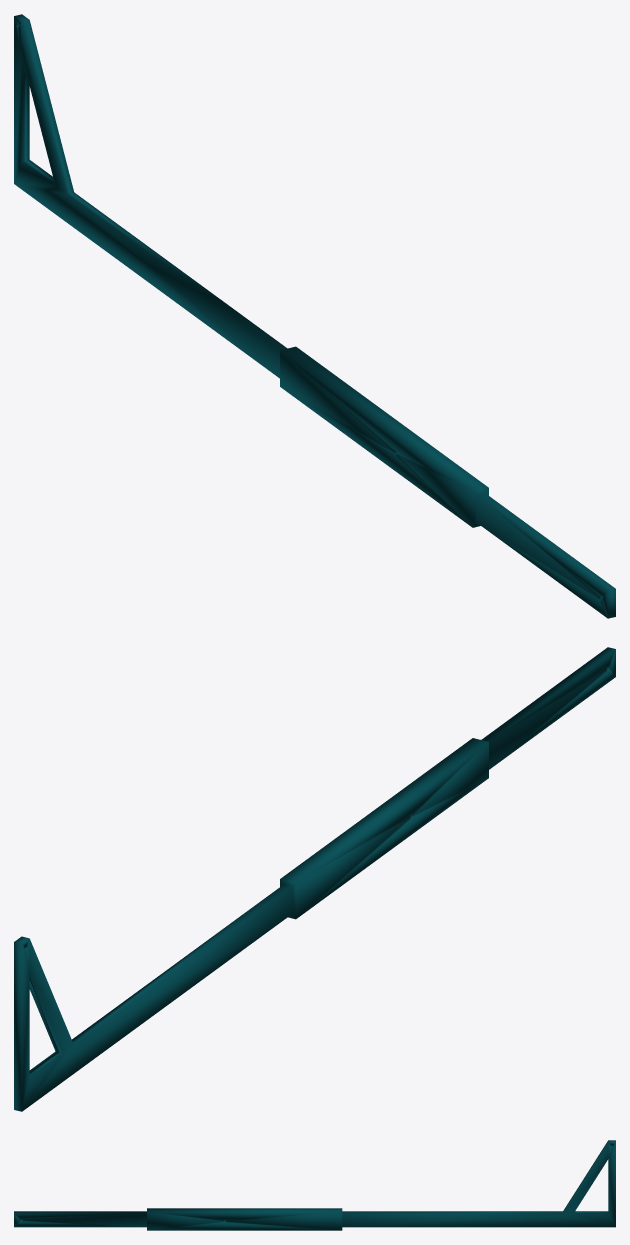
The model's file is arm_4.dae.
The picture shows the model from 3 angles, top to bottom: view 1: azimuth 30°, elevation 25°; view 2: azimuth 150°, elevation 25°; view 3: azimuth 270°, elevation 25°; orthographic projection. The views are drawn at different scales.
Visible parts, largest first — view 1: arm_3; view 2: arm_3; view 3: arm_3.
Boxes of the visible parts, left/top/right/bottom form: arm_3: left=14, top=14, right=615, bottom=618; arm_3: left=14, top=647, right=615, bottom=1111; arm_3: left=14, top=1140, right=615, bottom=1230.
Size of the model in its own units: 0.012 by 0.77 by 0.123.
